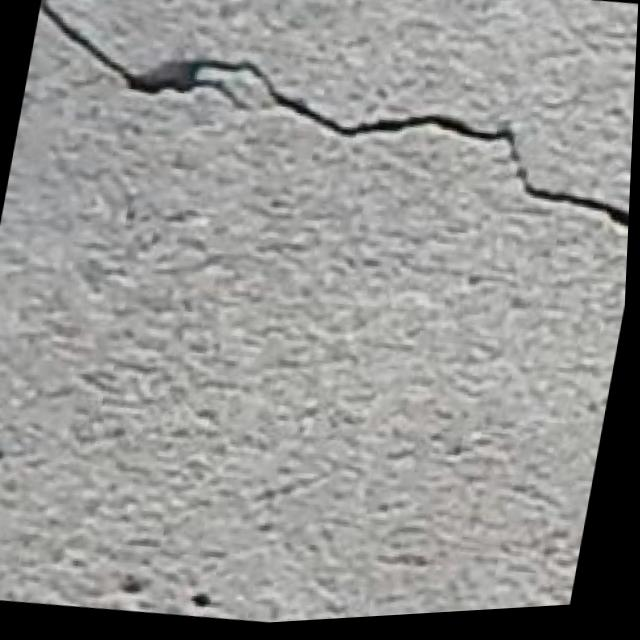Crack: (3, 0, 640, 293)
